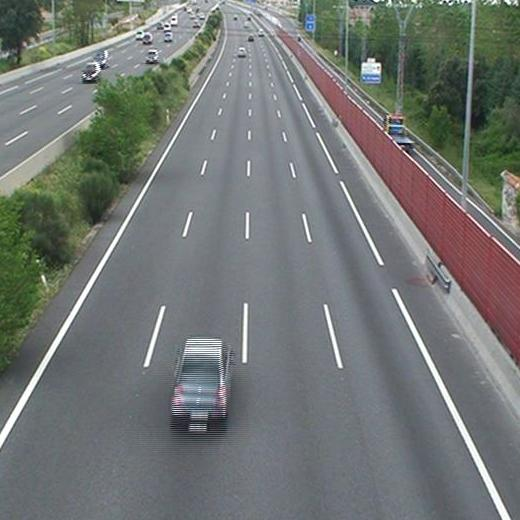car: (172, 339, 229, 423), (238, 48, 247, 56)
